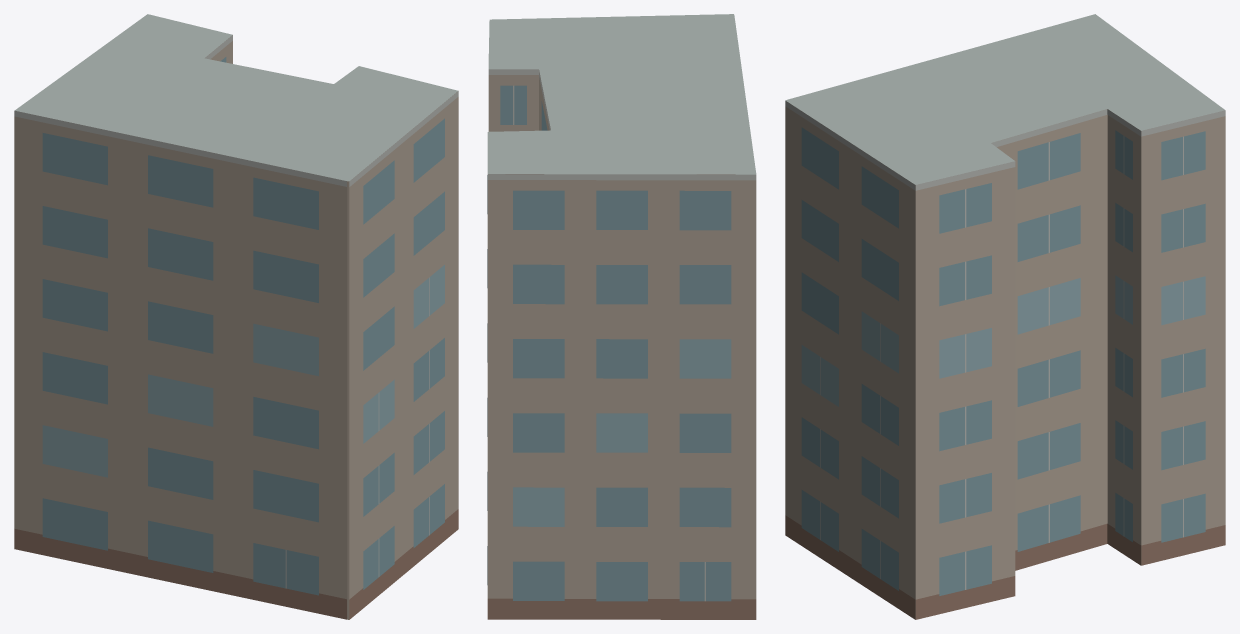
File: survey-upis-32563705.glb
3 renders of one model, left to right at view 1: azimuth 30°, elevation 25°; view 2: azimuth 150°, elevation 25°; view 3: azimuth 270°, elevation 25°, orthographic. The views are drawn at different scales.
Visible parts, largest first — view 1: survey-upis-32563705.tmp; view 2: survey-upis-32563705.tmp; view 3: survey-upis-32563705.tmp.
Part boxes in pixels (<box>): survey-upis-32563705.tmp: <box>14,14,458,619</box>; survey-upis-32563705.tmp: <box>487,14,756,619</box>; survey-upis-32563705.tmp: <box>785,14,1225,619</box>.
Size of the model in its own units: 15.44 by 18.3 by 16.8.
